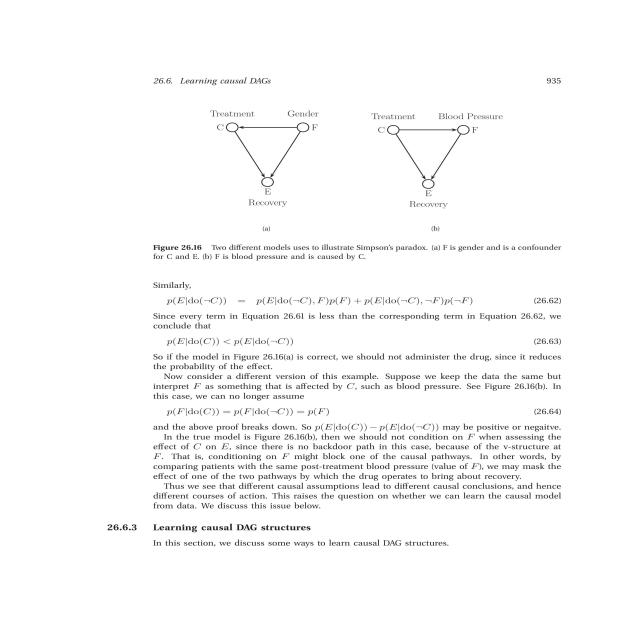diagram: (116, 86, 578, 268)
